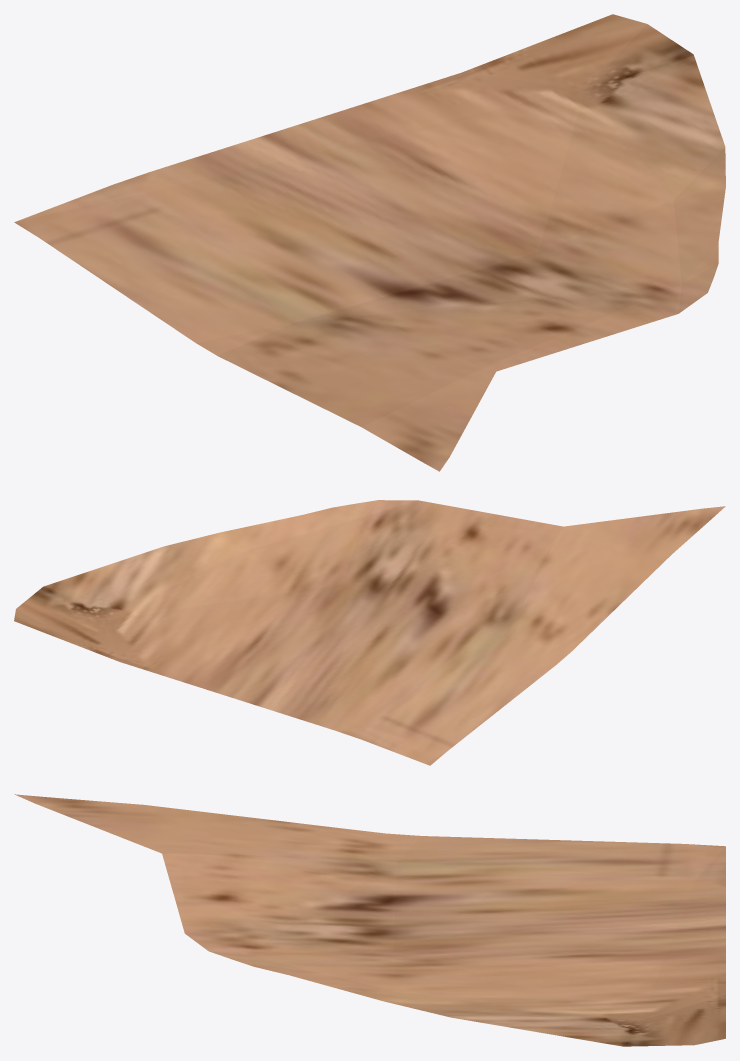
3 views of the same model, one above another, from view 1: azimuth 30°, elevation 25°; view 2: azimuth 150°, elevation 25°; view 3: azimuth 270°, elevation 25° (orthographic). The views are drawn at different scales.
Size of the model in its own units: 0.6917 by 0.0664 by 0.8249.
1 material, 1 textured.
